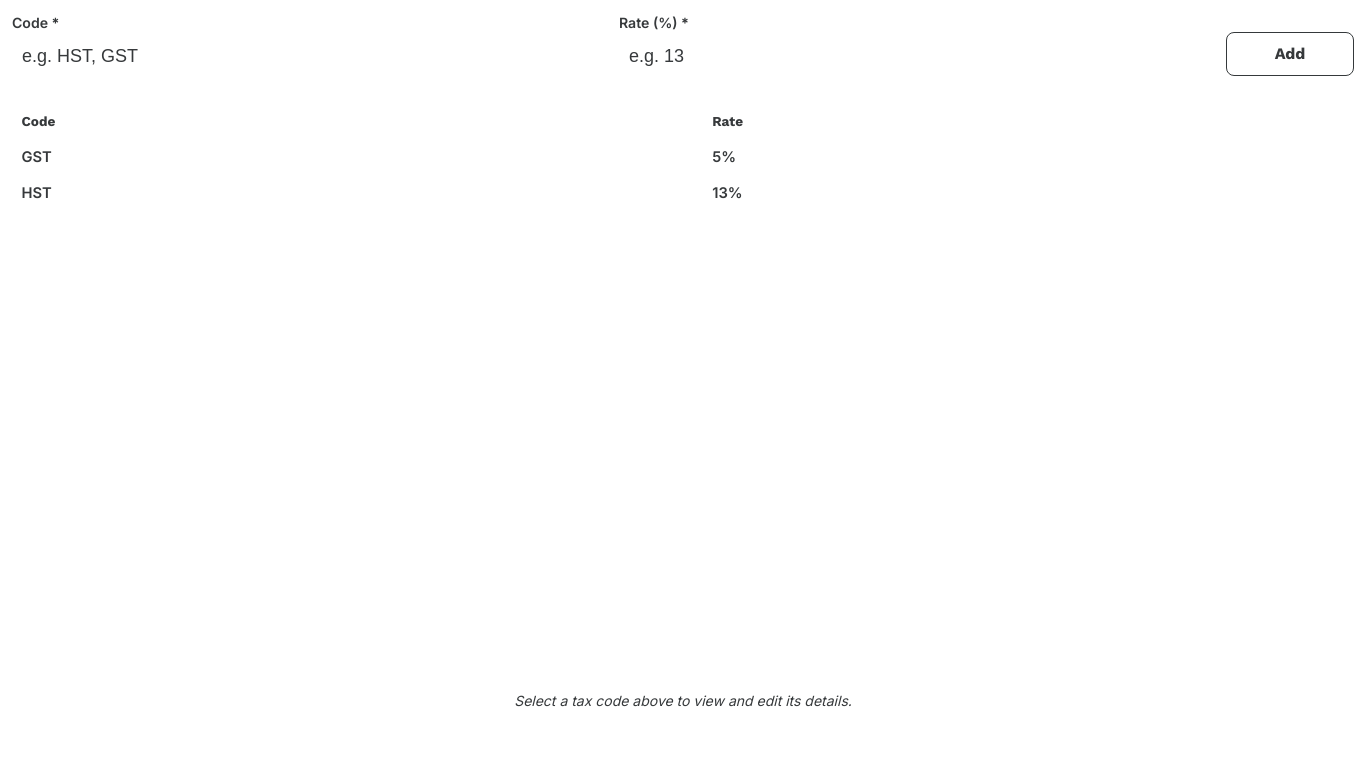
Test: TaxCodePanel › selects a tax code and shows edit panel
Click the text "GST".
click(37, 157)  # box [12,140,1354,176]
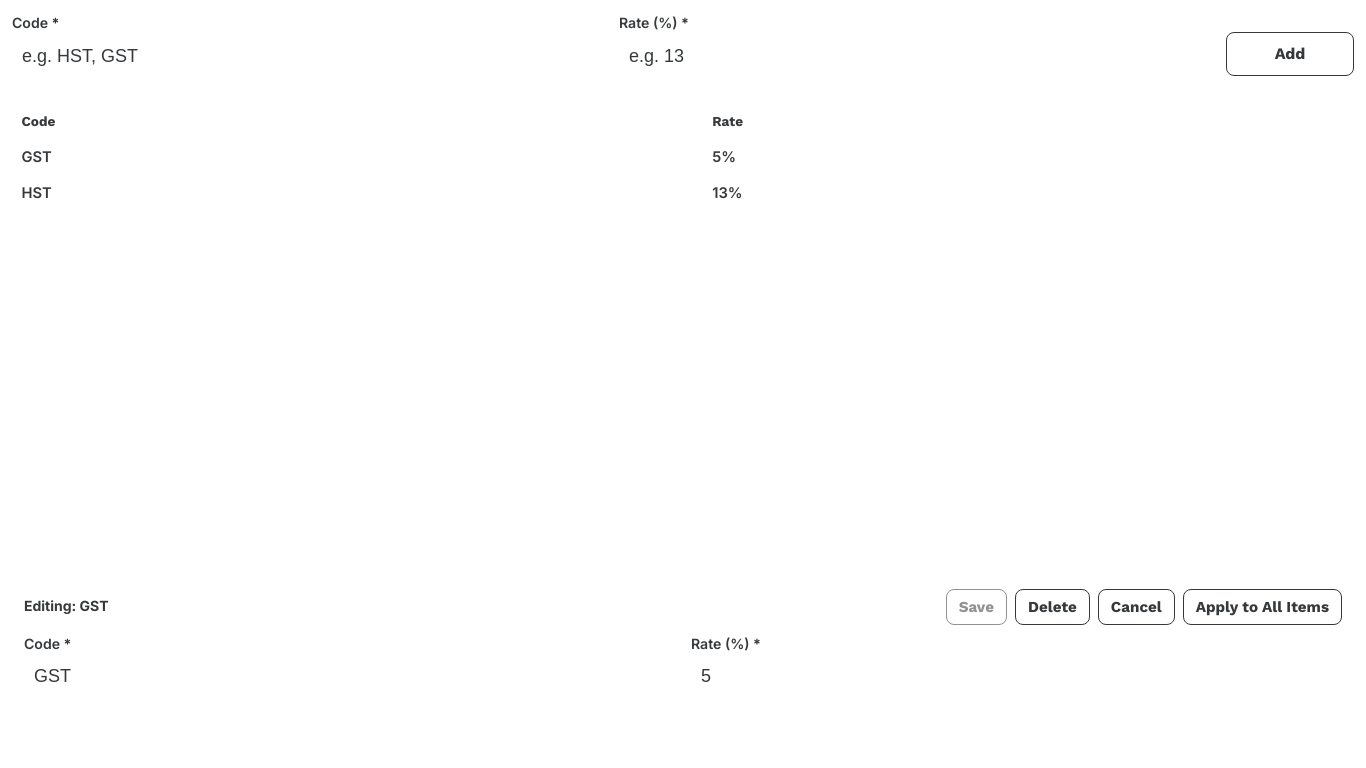
Now the field named "Edit Tax Code Name" holds "GST", box [24,658,675,695]
Now the field named "Edit Tax Rate" holds "5", box [691,658,1342,695]
Now the text "Editing: GST" is shown, box [24,595,108,618]
